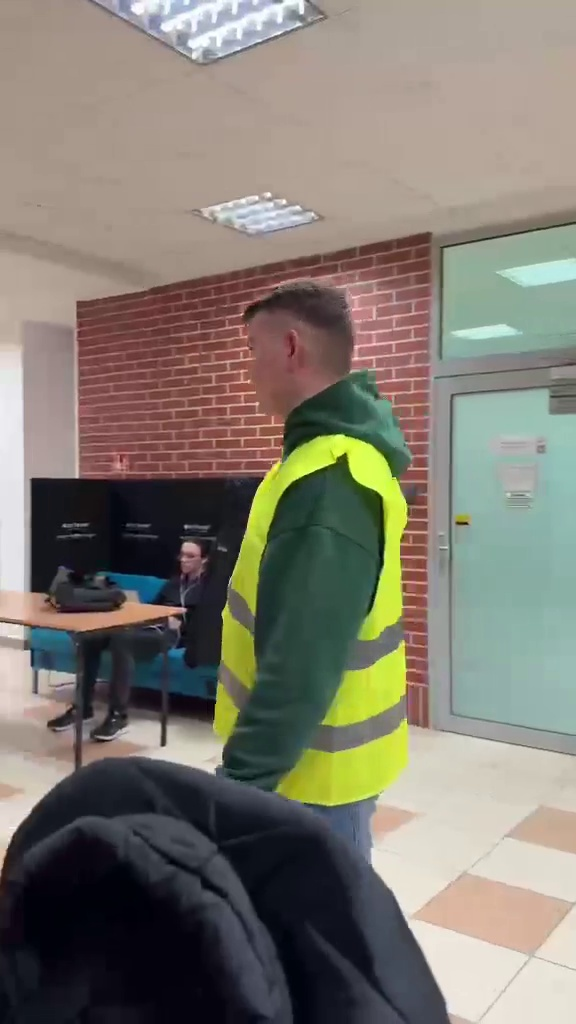no vest: (47, 541, 214, 741)
vest: (216, 277, 417, 849)
